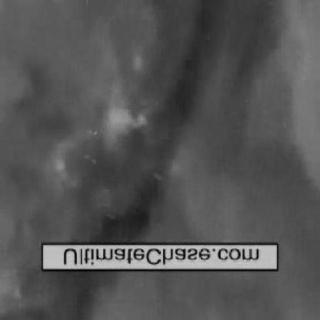Fire: (170, 134, 192, 182), (1, 267, 20, 307)
